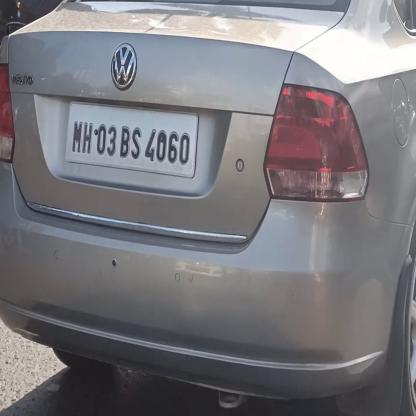license_plate: (65, 98, 199, 180)
